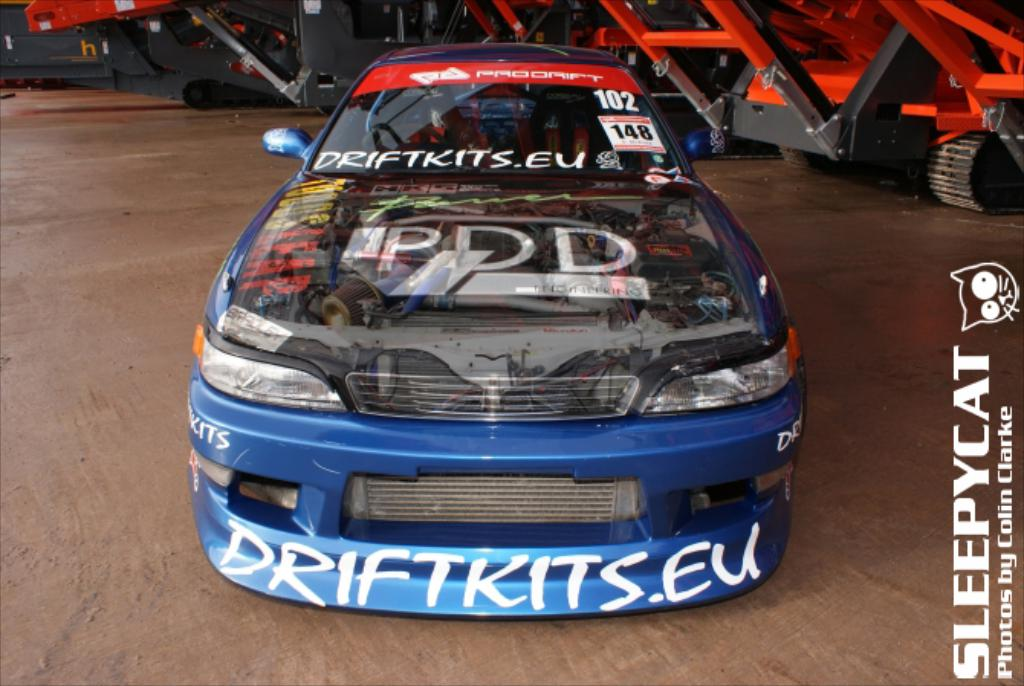Car: (180, 36, 776, 626)
